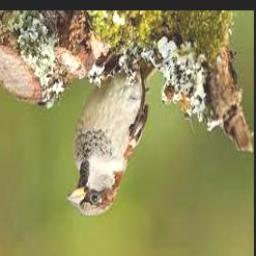Sparrow: (66, 57, 158, 215)
